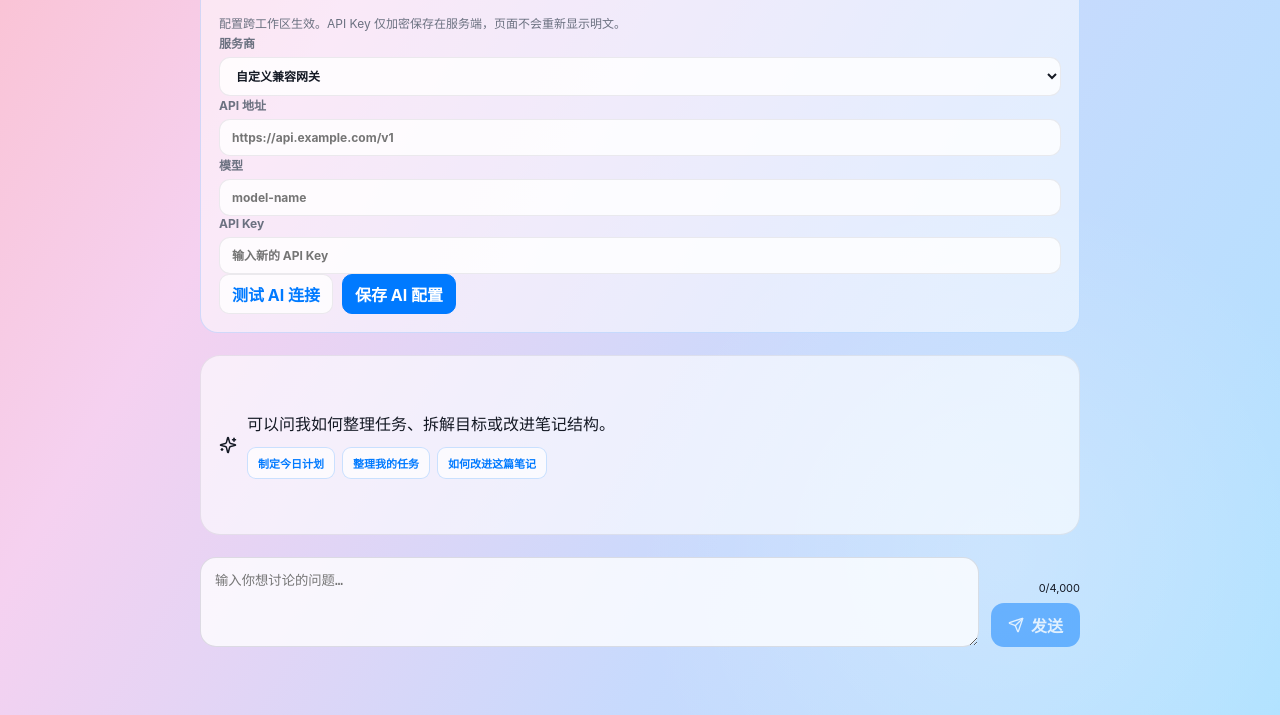
Scenario: AIChatPanel › fills a quick prompt without sending it
(page scrolled)
Click the button "制定今日计划": (291, 463) [247, 447, 335, 479]
(page scrolled)
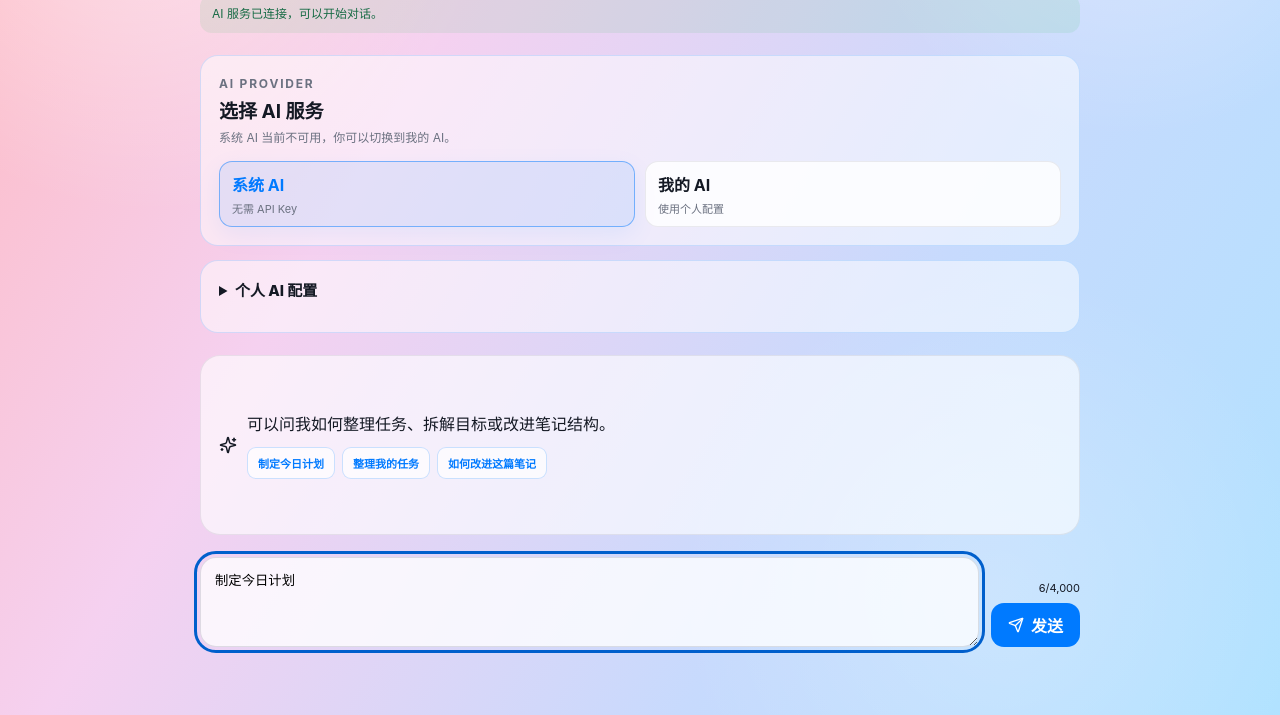
Now the text box named "输入问题" holds "制定今日计划", box [200, 557, 979, 647]
